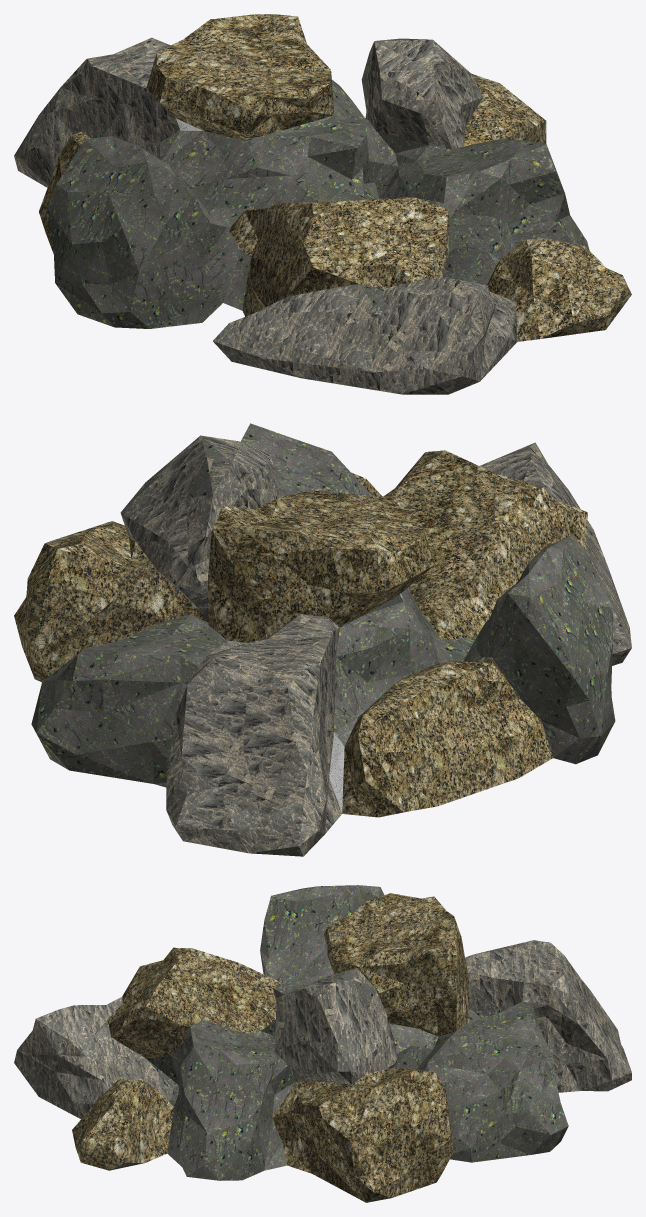
The model's file is rocks1.dae.
The picture shows the model from 3 angles, top to bottom: view 1: azimuth 30°, elevation 25°; view 2: azimuth 150°, elevation 25°; view 3: azimuth 270°, elevation 25°; orthographic projection. The views are drawn at different scales.
Visible parts, largest first — view 1: skp1F1 (×9); view 2: skp1F1 (×9); view 3: skp1F1 (×8).
Part boxes in pixels (bbox=[...]): skp1F1 (×9): bbox=[14, 14, 631, 394]; skp1F1 (×9): bbox=[14, 423, 631, 856]; skp1F1 (×8): bbox=[14, 885, 631, 1202].
Bounding box in the file's own units: 90.74 × 112 × 33.95.
